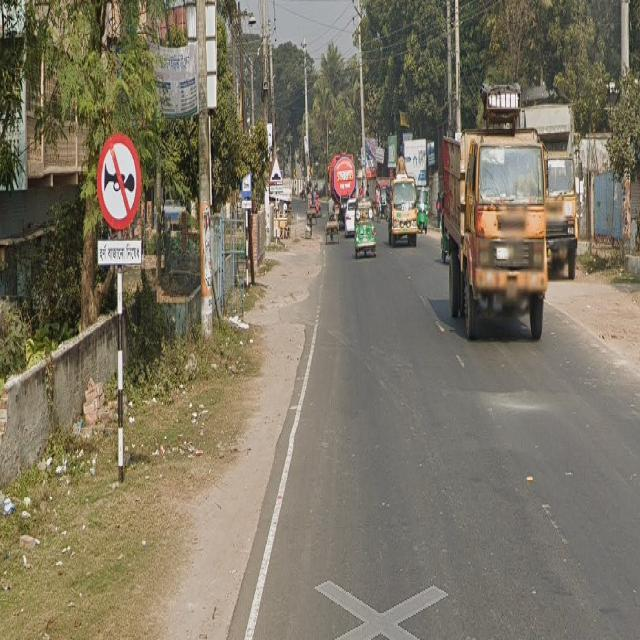Horn-blowing-is-prohibited: (93, 127, 148, 283)
